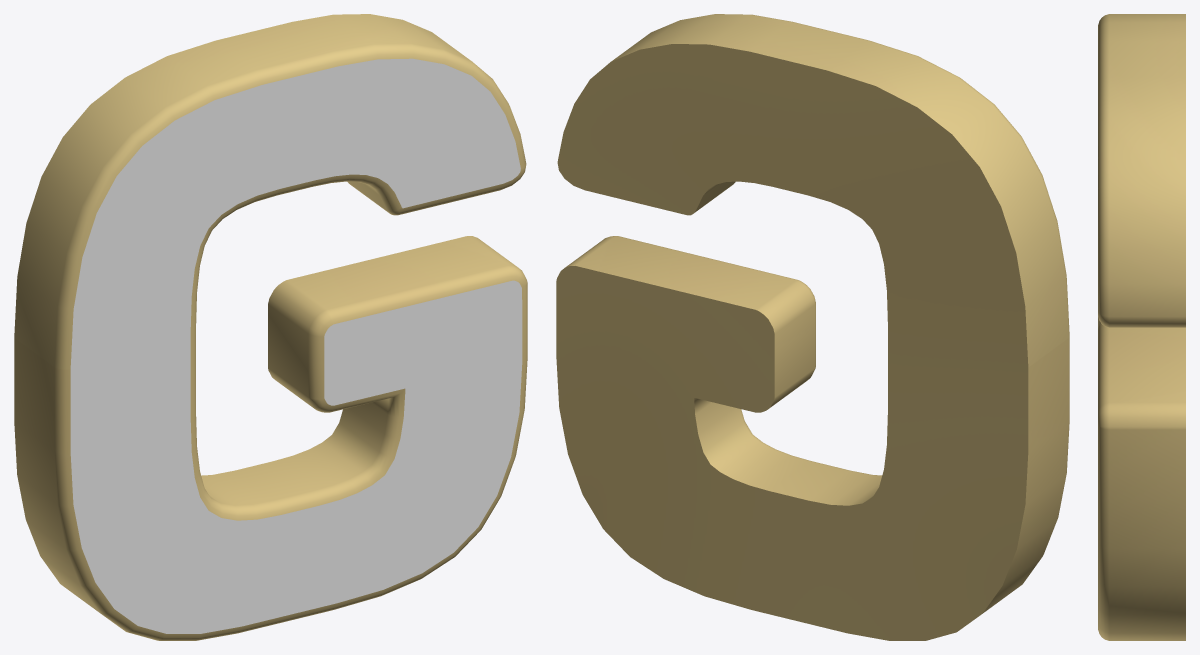
File: LettersLightUp02_G.FBX
3 views of the same model, side by side, from view 1: azimuth 30°, elevation 25°; view 2: azimuth 150°, elevation 25°; view 3: azimuth 270°, elevation 25° (orthographic). The views are drawn at different scales.
Visible parts, largest first — view 1: LettersLightUp02_G; view 2: LettersLightUp02_G; view 3: LettersLightUp02_G.
Boxes of the visible parts, left/top/right/bottom form: LettersLightUp02_G: left=14, top=14, right=527, bottom=640; LettersLightUp02_G: left=556, top=14, right=1069, bottom=640; LettersLightUp02_G: left=1098, top=14, right=1185, bottom=640.
Size of what is drawn, in the model's own units: 0.5383 by 0.608 by 0.0912.
